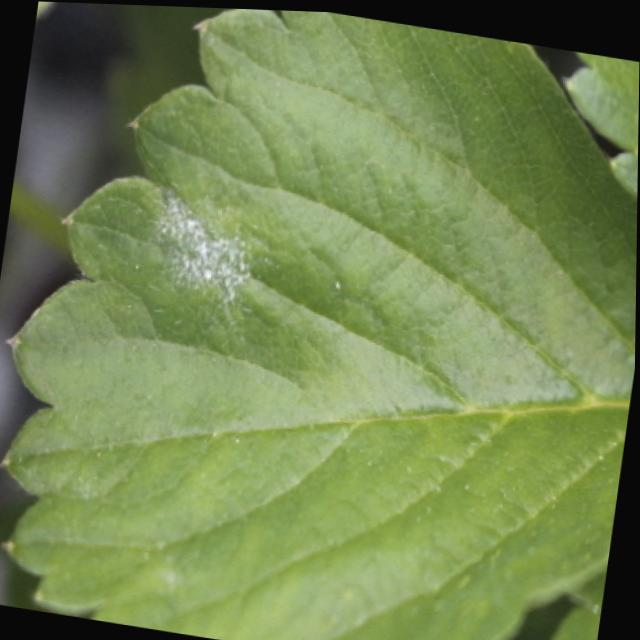Powdery Mildew Leaf: (0, 7, 638, 640)
